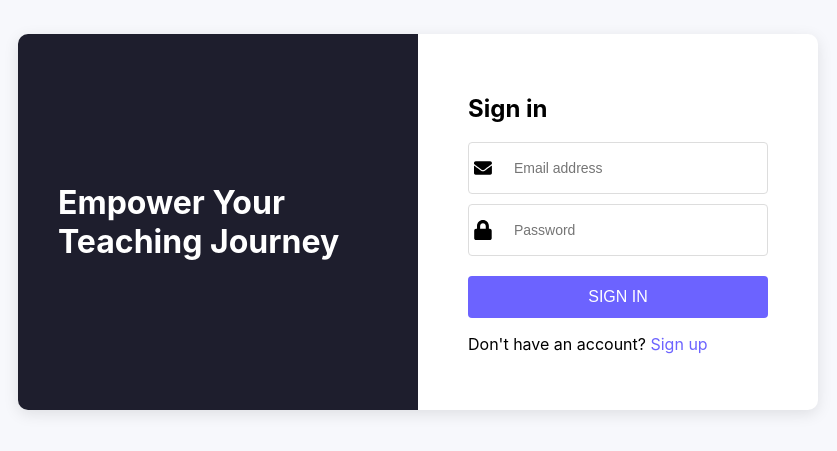
Test case: FacultyLogin › displays error message when the email is incorrect but password is correct
The width and height of the screenshot is (837, 451).
Simulate user input with incorrect email and correct password
Step 1. Type "wrong@example.com" into the field with placeholder "Email address" → [632, 168], box [502,148,762,188]
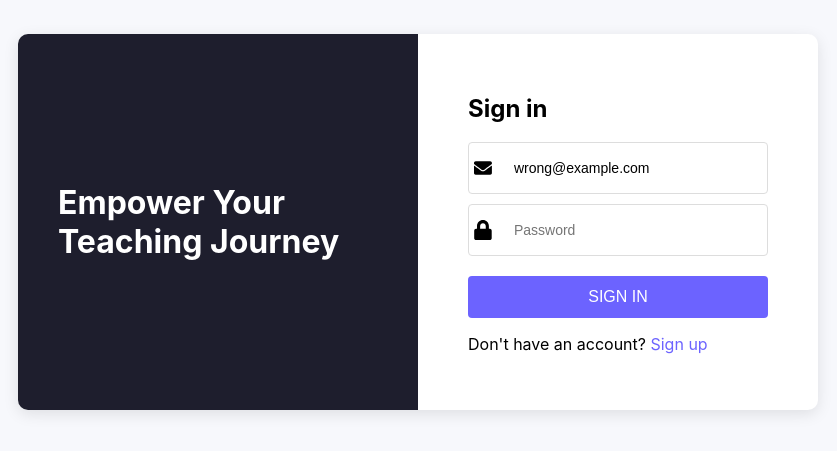
Step 2. Type "password123" into the password field with placeholder "Password" → [632, 230], box [502,210,762,250]
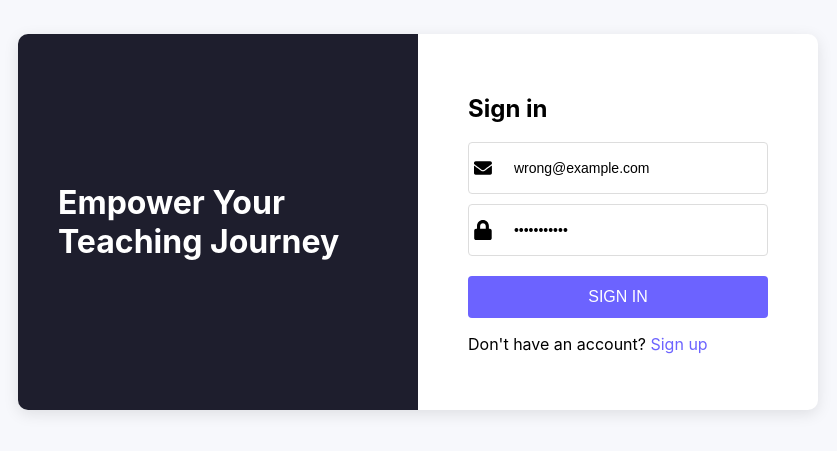
Simulate form submission
Step 3. Click the button "SIGN IN" → [618, 297], box [468,276,768,318]
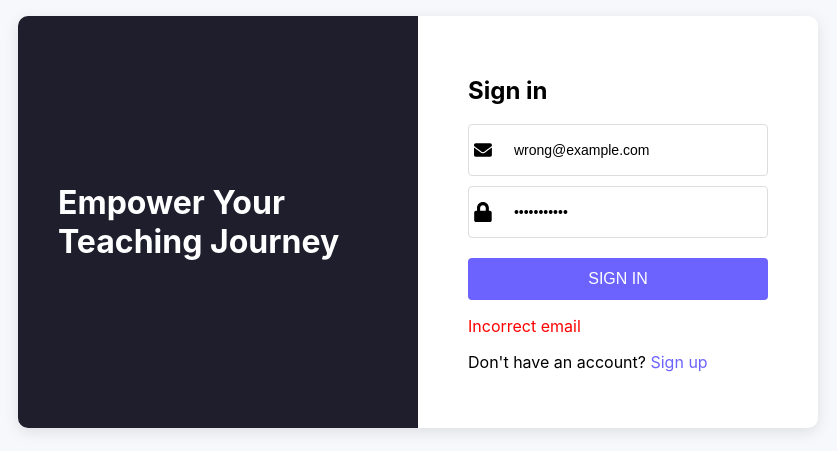
Result: the text "Incorrect email" is shown at [468,316,581,336]
